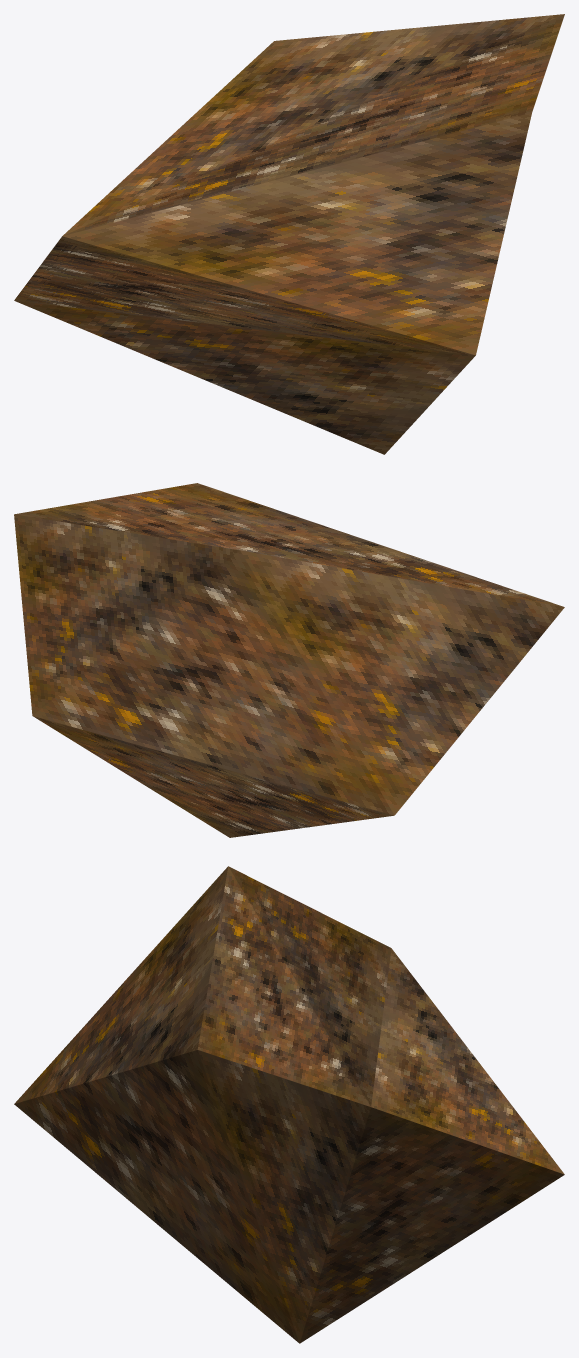
Rendered from rock2.gltf.
The picture shows the model from 3 angles, top to bottom: view 1: azimuth 30°, elevation 25°; view 2: azimuth 150°, elevation 25°; view 3: azimuth 270°, elevation 25°; orthographic projection. The views are drawn at different scales.
Visible parts, largest first — view 1: rock2; view 2: rock2; view 3: rock2.
Part boxes in pixels (left/top/right/bottom): rock2: left=14, top=14, right=564, bottom=454; rock2: left=14, top=483, right=564, bottom=837; rock2: left=14, top=866, right=564, bottom=1343.
Bounding box in the file's own units: 26.43 × 17.14 × 23.28.
1 material, 1 textured.
